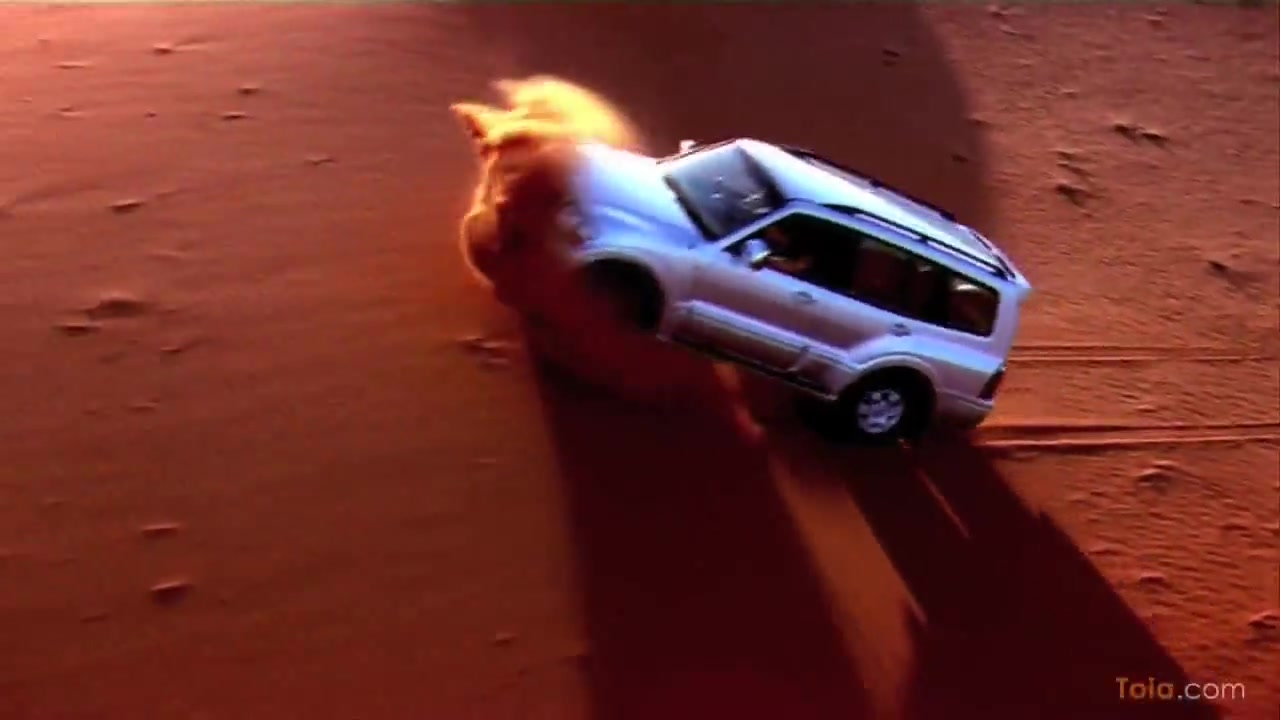car: (473, 131, 1028, 450)
